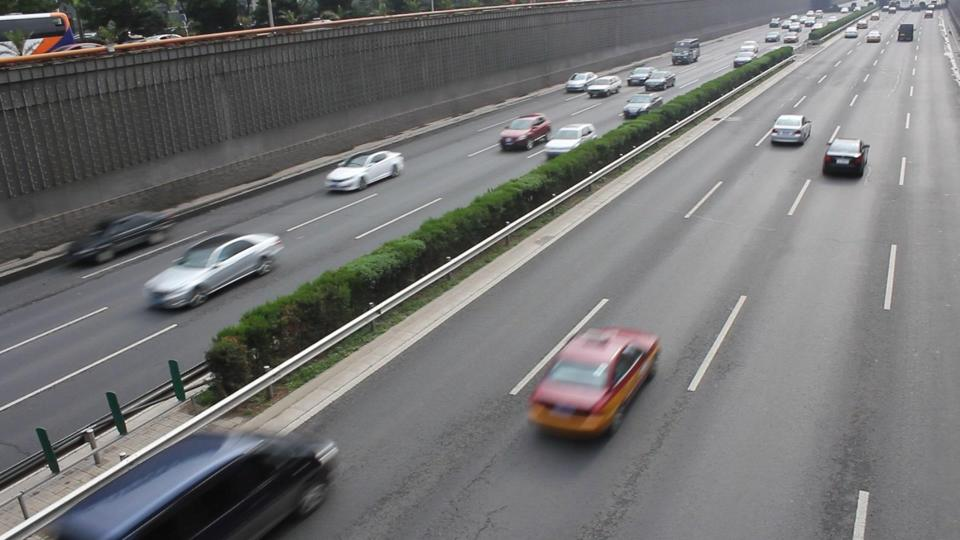bus: (0, 12, 77, 55)
car: (23, 429, 341, 540), (526, 325, 662, 442), (141, 231, 287, 311), (63, 209, 178, 266), (324, 150, 405, 193), (499, 112, 552, 152), (544, 123, 597, 160), (822, 137, 871, 177), (768, 114, 814, 145), (621, 94, 665, 119), (564, 71, 598, 93), (644, 69, 676, 91), (626, 67, 656, 85), (734, 49, 758, 68), (897, 23, 915, 42), (737, 40, 759, 54), (148, 34, 184, 41), (865, 30, 882, 43), (765, 30, 782, 42), (844, 30, 859, 39)
truck: (671, 38, 701, 65)
